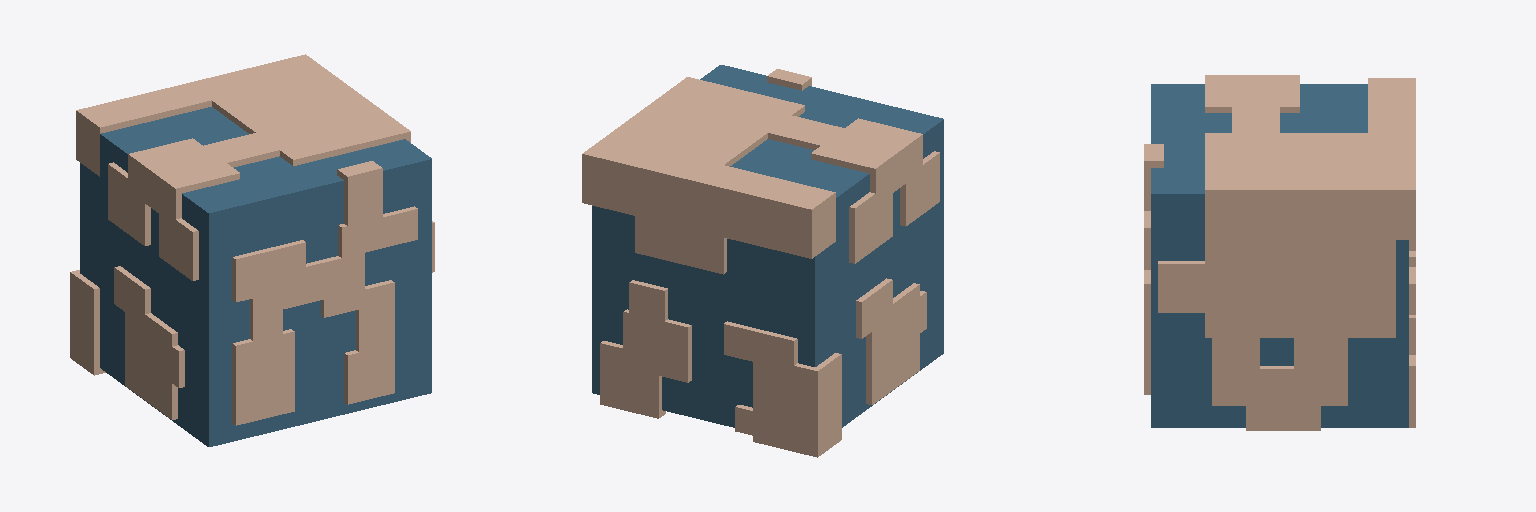
3 renders of one model, left to right at view 1: azimuth 30°, elevation 25°; view 2: azimuth 150°, elevation 25°; view 3: azimuth 270°, elevation 25°, orthographic.
Size of the model in its own units: 40 by 40 by 40.
Materials: 1 (1 with a texture image).